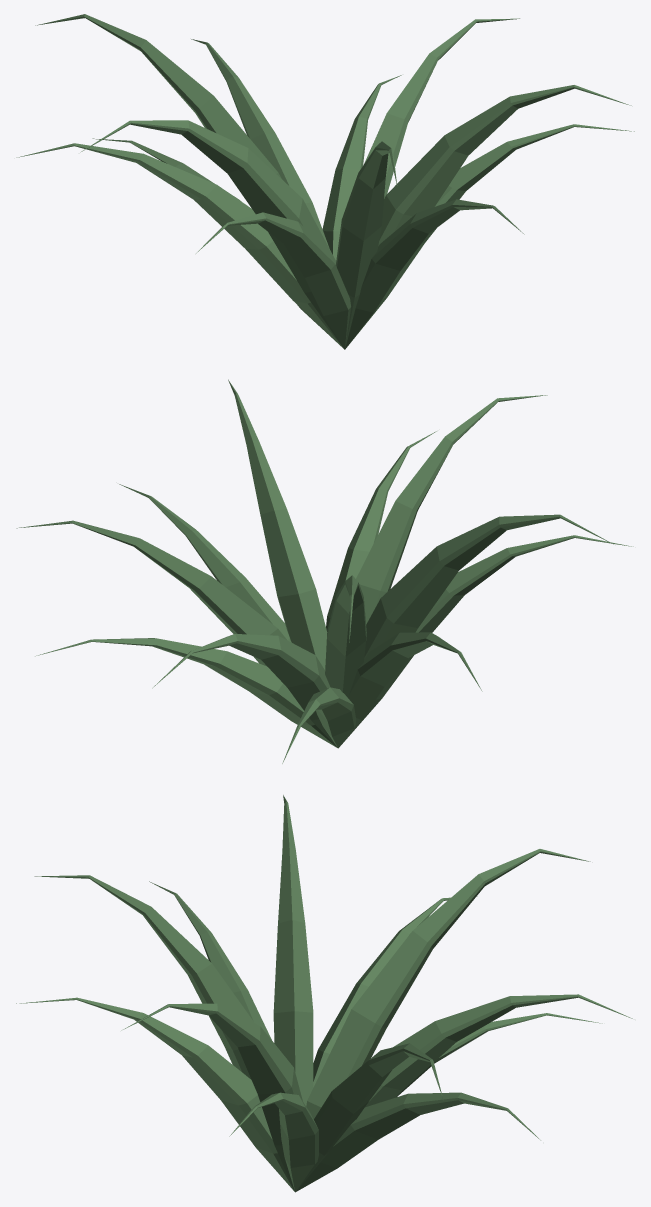
File: grass.glb
3 views of the same model, one above another, from view 1: azimuth 30°, elevation 25°; view 2: azimuth 150°, elevation 25°; view 3: azimuth 270°, elevation 25° (orthographic).
Visible parts, largest first — view 1: Grass; view 2: Grass; view 3: Grass.
Part boxes in pixels (box(x1,y1,x2,y2)): Grass: box(16, 14, 634, 349); Grass: box(16, 379, 633, 763); Grass: box(16, 795, 632, 1192).
Bounding box in the file's own units: 1.11 × 0.5816 × 1.13.
